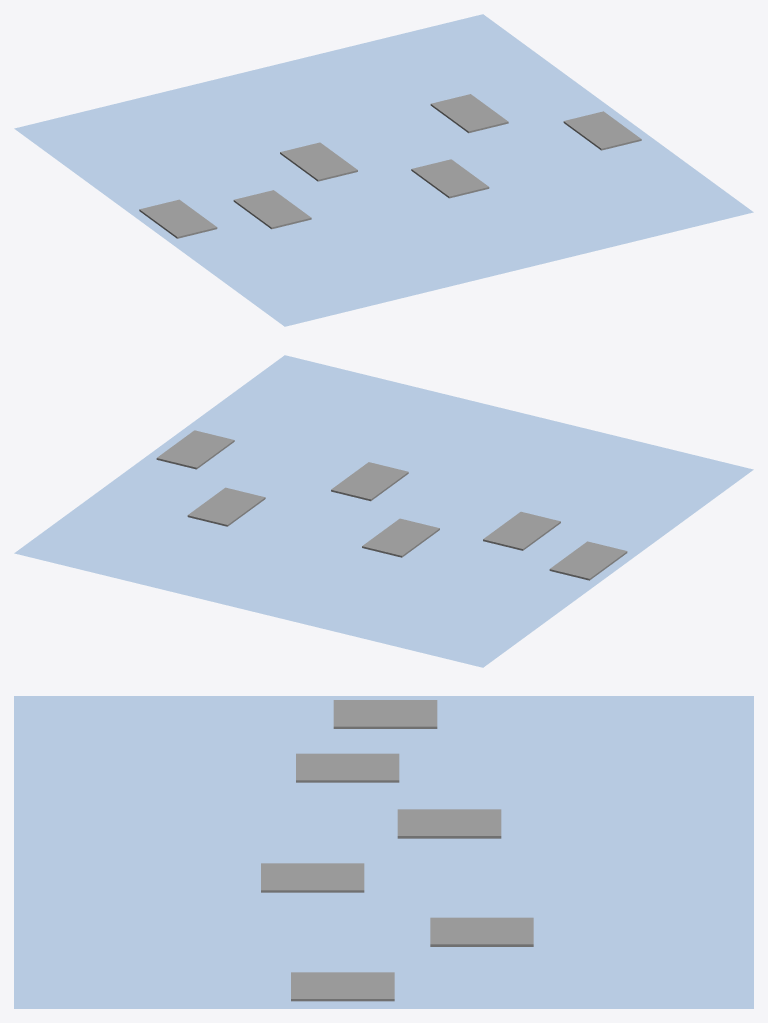
File: terrain_2.fbx
The picture shows the model from 3 angles, top to bottom: view 1: azimuth 30°, elevation 25°; view 2: azimuth 150°, elevation 25°; view 3: azimuth 270°, elevation 25°; orthographic projection. The views are drawn at different scales.
Visible parts, largest first — view 1: base; view 2: base; view 3: base.
Part boxes in pixels (bbox=[...]): base: bbox=[14, 14, 753, 326]; base: bbox=[14, 355, 753, 667]; base: bbox=[14, 696, 753, 1008].
Size of the model in its own units: 1 by 0.00473 by 1.
